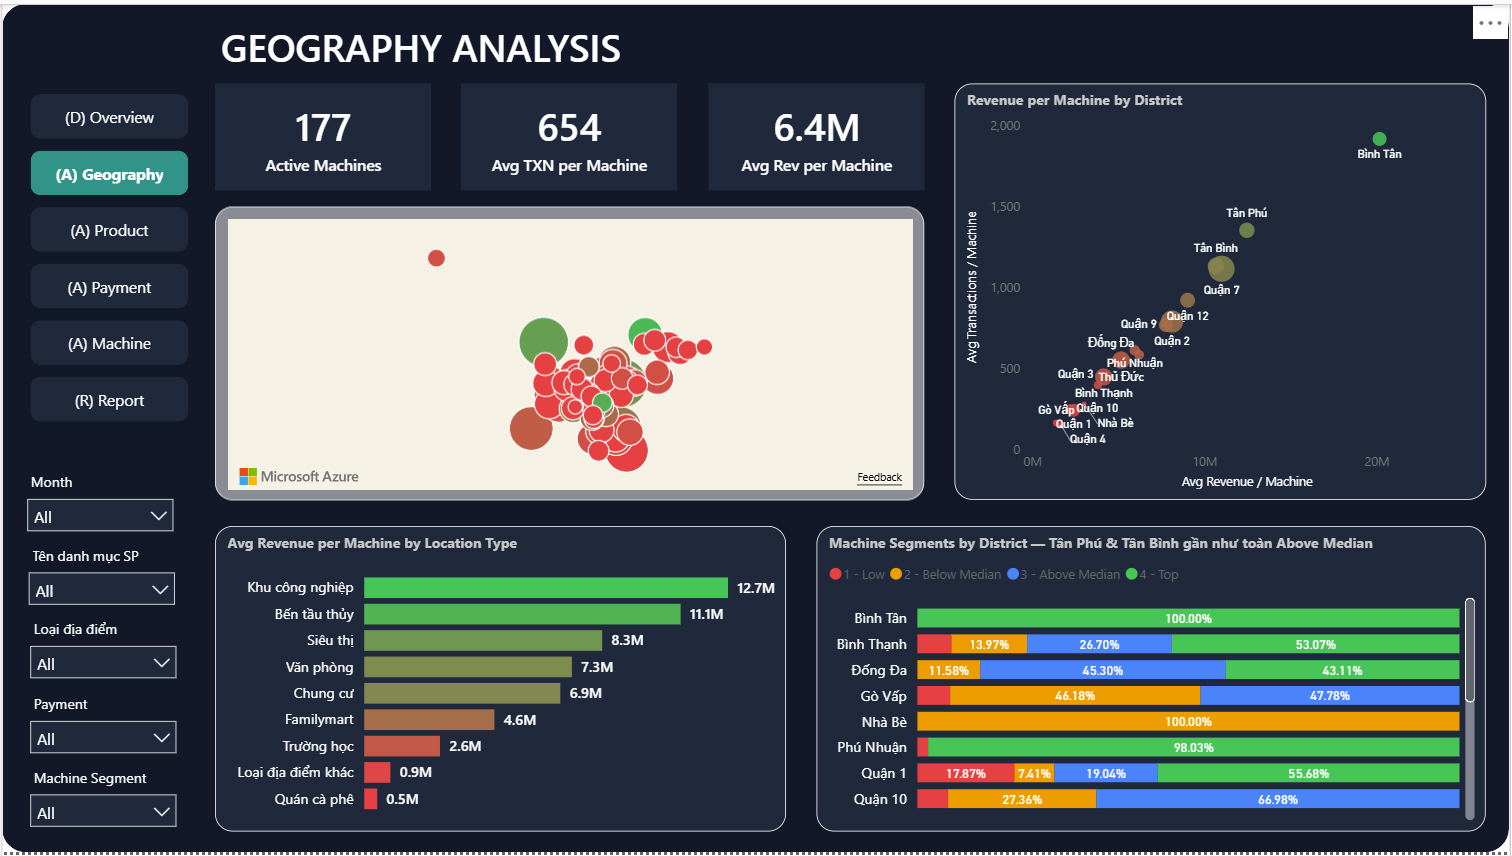

Layout of this report page (visuals, bound fields, positions):
{"tool":"powerbi","page":{"name":"(A) Geography","canvas":[1280,720],"ordinal":1},"visuals":[{"type":"group","id":"g1","title":"Background","box":[0,0,1279.1,720],"z":0},{"type":"shape","box":[0,0,1279.1,720],"z":0,"group":"g1"},{"type":"slicer","fields":{"Values":["dDate.MonthName"]},"box":[11.9,391.7,143.7,59.3],"z":0,"group":"g2"},{"type":"textbox","box":[180.8,8.9,373.1,54.7],"z":1000},{"type":"slicer","fields":{"Values":["dSanPham.Tên danh mục SP"]},"box":[13.2,454.3,143.7,59.3],"z":1000,"group":"g2"},{"type":"group","id":"g2","title":"Filter","box":[11.9,391.7,146.4,309.9],"z":2000},{"type":"slicer","fields":{"Values":["dDiaDiemCha.Loại địa điểm"]},"box":[14.5,517,143.7,59.3],"z":2000,"group":"g2"},{"type":"scatterChart","title":"Revenue per Machine by District","fields":{"X":["fBanHang.AvgSalePerMachine"],"Y":["fBanHang.AvgTransPerMachine"],"Size":["fBanHang.SUM_Sales"],"Category":["dDiaDiemCha.District Name"]},"box":[808.2,67.8,451.4,353.5],"z":3000},{"type":"slicer","fields":{"Values":["dPaymentType.PaymentName"]},"box":[14.5,579.6,143.7,59.3],"z":3000,"group":"g2"},{"type":"clusteredBarChart","title":"Avg Revenue per Machine by Location Type","fields":{"Category":["dDiaDiemCha.Loại địa điểm"],"Y":["fBanHang.AvgSalePerMachine"]},"box":[181.2,442.5,484.7,259],"z":4000},{"type":"slicer","fields":{"Values":["fBanHang.Machine Segment"]},"box":[14.5,642.3,143.7,59.3],"z":4000,"group":"g2"},{"type":"azureMap","title":"Unit Sold by Mã máy (Top 10)","fields":{"Y":["dDanhSachMay.Lat"],"X":["dDanhSachMay.Long"],"Size":["Sum(fBanHang.Sales)"]},"box":[180.8,171.9,602.2,249.6],"z":5000},{"type":"hundredPercentStackedBarChart","title":"Machine Segments by District — Tân Phú & Tân Bình gần như toàn Above Median","fields":{"Category":["dDiaDiemCha.District Name"],"Y":["fBanHang.COUNT_Transaction"],"Series":["fBanHang.Machine Segment"]},"box":[691.5,442.5,568.1,259],"z":6000},{"type":"card","fields":{"Values":["fBanHang.AvgTransPerMachine"]},"box":[390.2,67.5,183.3,90.4],"z":7000},{"type":"card","fields":{"Values":["Count(fBanHang.VendingMachineId)"]},"box":[180.8,67.5,183.3,90.4],"z":8000},{"type":"card","fields":{"Values":["fBanHang.AvgSalePerMachine"]},"box":[599.7,67.5,183.3,90.4],"z":9000},{"type":"pageNavigator","box":[23.7,76.5,134.5,283.5],"z":10000}]}

Visuals, with their boxes on the page's 1280x720 design canvas (x1, y1, x2, y2). These are canvas units, not pixel positions in the 1512x856 screenshot, which may show the page scaled, cropped or inside an application window:
"Background" group: box=[0, 0, 1279, 720]
shape: box=[0, 0, 1279, 720]
slicer - dDate.MonthName: box=[12, 392, 156, 451]
textbox: box=[181, 9, 554, 64]
slicer - dSanPham.Tên danh mục SP: box=[13, 454, 157, 514]
"Filter" group: box=[12, 392, 158, 702]
slicer - dDiaDiemCha.Loại địa điểm: box=[14, 517, 158, 576]
"Revenue per Machine by District" scatterChart: box=[808, 68, 1260, 421]
slicer - dPaymentType.PaymentName: box=[14, 580, 158, 639]
"Avg Revenue per Machine by Location Type" clusteredBarChart: box=[181, 442, 666, 702]
slicer - fBanHang.Machine Segment: box=[14, 642, 158, 702]
"Unit Sold by Mã máy (Top 10)" azureMap: box=[181, 172, 783, 422]
"Machine Segments by District — Tân Phú & Tân Bình gần như toàn Above Median" hundredPercentStackedBarChart: box=[692, 442, 1260, 702]
card - fBanHang.AvgTransPerMachine: box=[390, 68, 574, 158]
card - Count(fBanHang.VendingMachineId): box=[181, 68, 364, 158]
card - fBanHang.AvgSalePerMachine: box=[600, 68, 783, 158]
pageNavigator: box=[24, 76, 158, 360]
